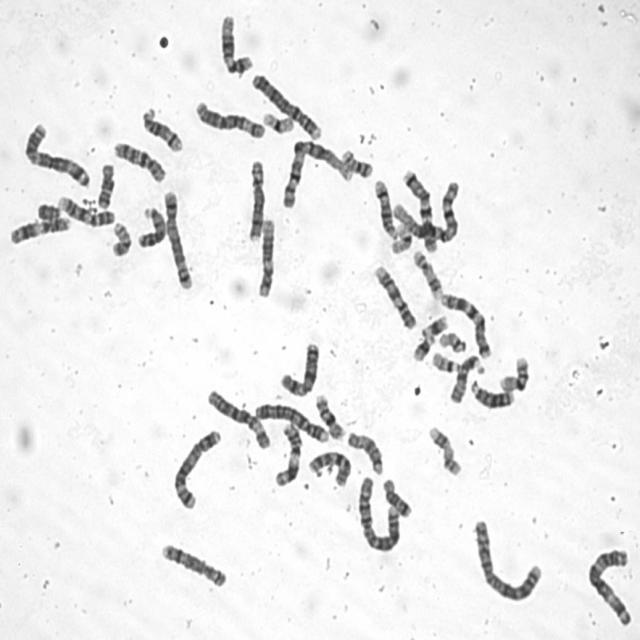A1: (278, 137, 355, 210), (390, 178, 462, 243)
A2: (471, 516, 544, 603), (355, 472, 402, 554)
A3: (21, 120, 92, 190), (584, 545, 633, 627)
B4: (249, 70, 324, 142), (251, 400, 330, 445)
B5: (170, 425, 222, 512), (161, 187, 194, 292)
C10: (110, 138, 168, 185), (306, 447, 352, 486)
C11: (272, 419, 303, 488), (6, 214, 72, 246)
C12: (217, 11, 254, 76), (254, 216, 276, 300)
C6: (206, 386, 272, 451), (192, 98, 266, 140)
C7: (438, 290, 493, 360), (400, 167, 434, 222)
C8: (158, 538, 228, 590), (245, 155, 267, 244)
C9: (372, 262, 417, 332), (55, 192, 116, 228)
D13: (468, 376, 516, 410), (136, 203, 167, 250)
D14: (140, 104, 184, 155), (372, 177, 398, 240)
D15: (345, 429, 388, 475), (448, 356, 485, 404)
E16: (312, 391, 346, 442), (497, 354, 530, 393)
E17: (424, 421, 462, 478), (411, 247, 444, 301)
E18: (381, 478, 414, 520), (95, 161, 116, 210)
F19: (261, 109, 296, 135), (389, 222, 414, 254)
F20: (339, 145, 374, 180), (109, 218, 133, 258)
G21: (410, 332, 436, 365), (418, 313, 450, 339)
G22: (436, 328, 468, 354), (431, 349, 460, 373)
X: (277, 343, 323, 399)
Y: (35, 201, 61, 223)
